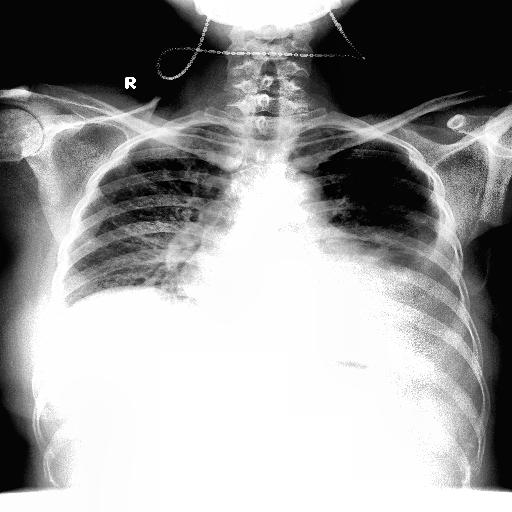0- Aortic enlargement: (264, 168, 324, 232), (272, 170, 324, 222)
10- Pleural effusion: (326, 216, 468, 332), (392, 216, 460, 320), (382, 248, 456, 311)
3- Cardiomegaly: (175, 250, 394, 318), (180, 251, 402, 311)
7- Lung Opacity: (332, 220, 439, 264)
